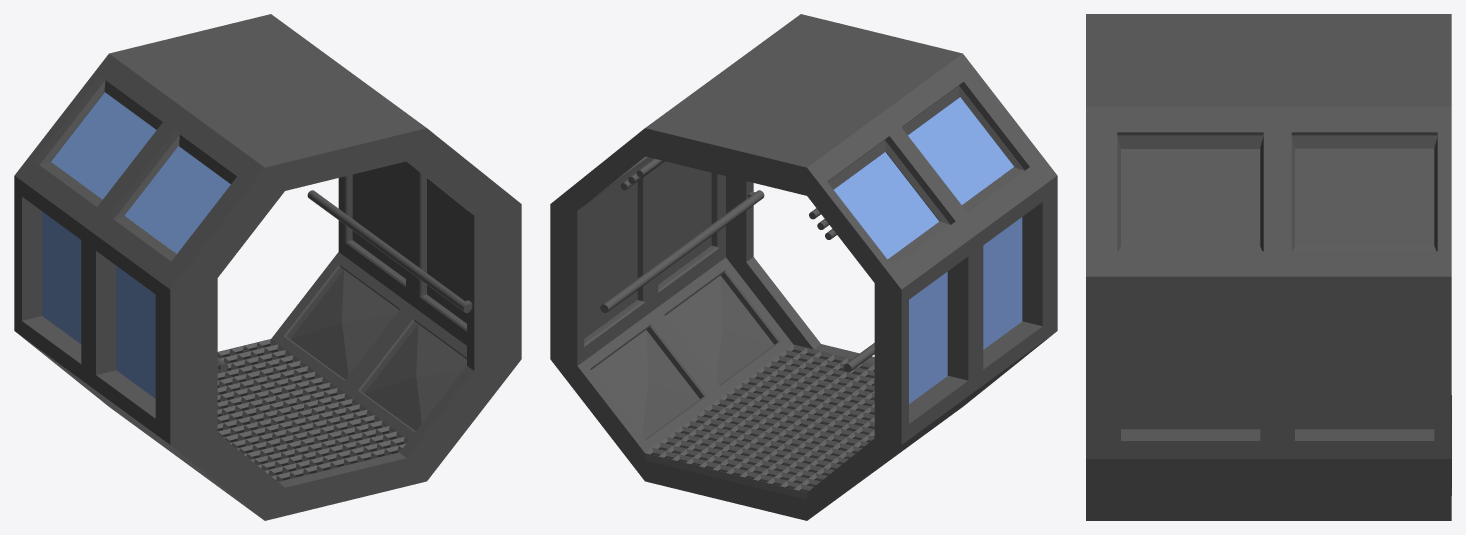
File: corridor-window-left.glb
3 renders of one model, left to right at view 1: azimuth 30°, elevation 25°; view 2: azimuth 150°, elevation 25°; view 3: azimuth 270°, elevation 25°, orthographic. The views are drawn at different scales.
Visible parts, largest first — view 1: Corridor, Windows, Floor, Walls, Railing; view 2: Corridor, Floor, Windows, Walls, Railing, Pipes; view 3: Corridor, Walls.
Part boxes in pixels (<box>): Corridor: <box>14,14,521,520</box>; Windows: <box>42,92,230,398</box>; Floor: <box>217,339,408,481</box>; Walls: <box>352,161,466,323</box>; Railing: <box>217,190,471,372</box>; Corridor: <box>550,14,1057,520</box>; Floor: <box>645,344,874,499</box>; Windows: <box>834,97,1022,403</box>; Walls: <box>584,161,711,338</box>; Railing: <box>600,190,874,372</box>; Pipes: <box>620,158,836,239</box>; Corridor: <box>1086,14,1451,520</box>; Walls: <box>1121,148,1434,429</box>.
Bounding box in the file's own units: 2.6 × 2.5 × 2.
